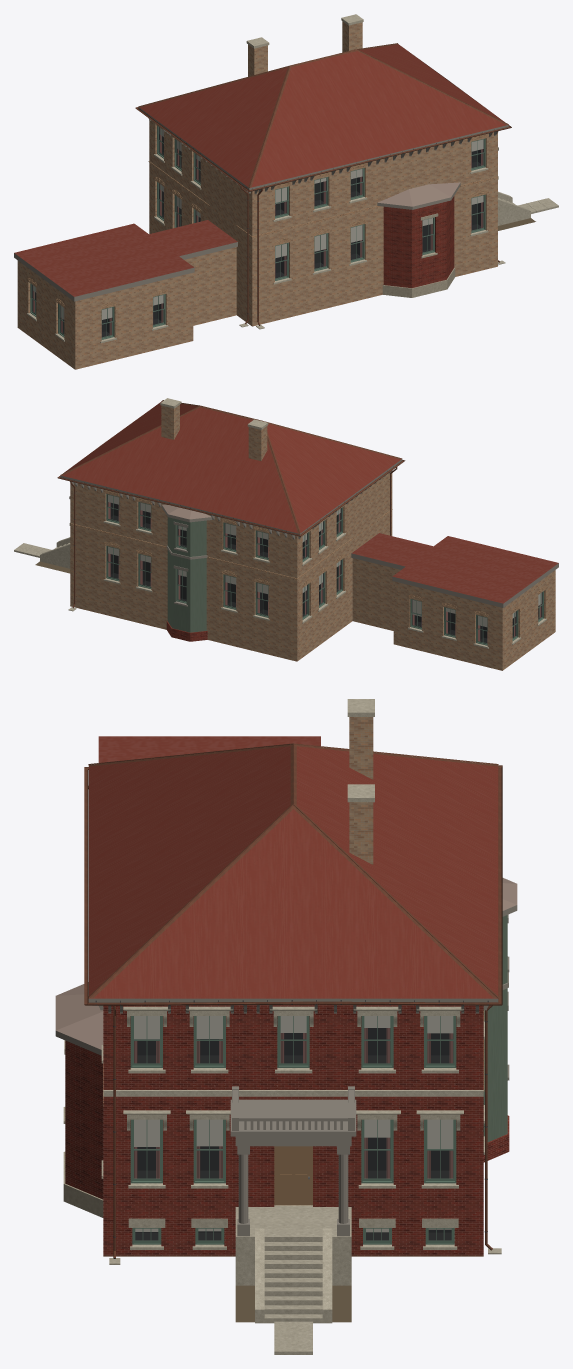
The model's file is house_2120_prairie__as_mapped_1904.glb.
3 renders of one model, top to bottom at view 1: azimuth 30°, elevation 25°; view 2: azimuth 150°, elevation 25°; view 3: azimuth 270°, elevation 25°, orthographic. The views are drawn at different scales.
Visible parts, largest first — view 1: house_2120_prairie__as_mapped_1904; view 2: house_2120_prairie__as_mapped_1904; view 3: house_2120_prairie__as_mapped_1904.
Boxes of the visible parts, x1=… form: house_2120_prairie__as_mapped_1904: x1=14, y1=14, x2=558, y2=369; house_2120_prairie__as_mapped_1904: x1=14, y1=398, x2=558, y2=670; house_2120_prairie__as_mapped_1904: x1=55, y1=699, x2=517, y2=1354.
Size of the model in its own units: 35.21 by 13.66 by 14.32.
25 materials, 14 textured.
